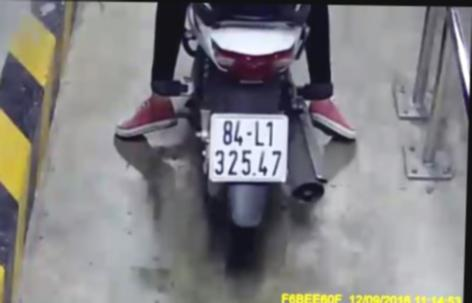License_Plate: (197, 104, 300, 192)
